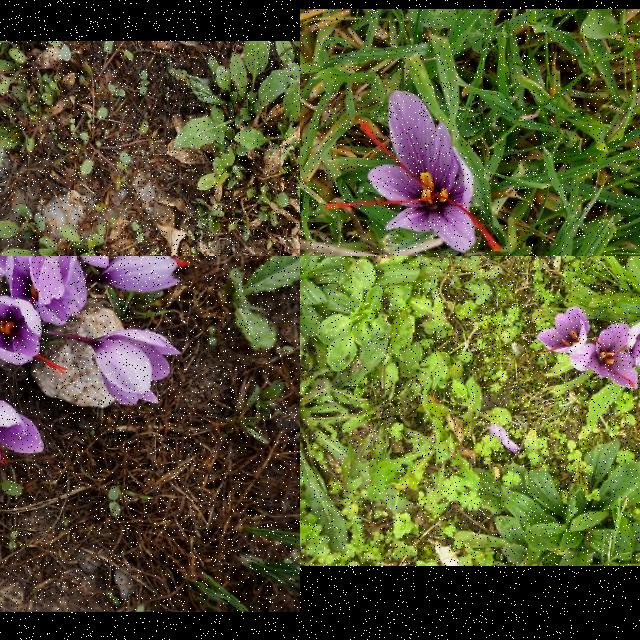flower: (324, 90, 504, 254), (86, 329, 182, 407), (572, 324, 638, 390), (0, 398, 44, 473), (96, 256, 190, 291), (537, 306, 591, 354), (627, 320, 640, 372)
overlap: (0, 256, 87, 385)
